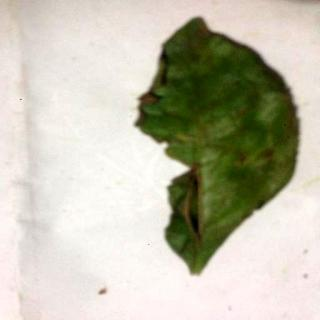Red Leaf Spot: (138, 19, 300, 274)
